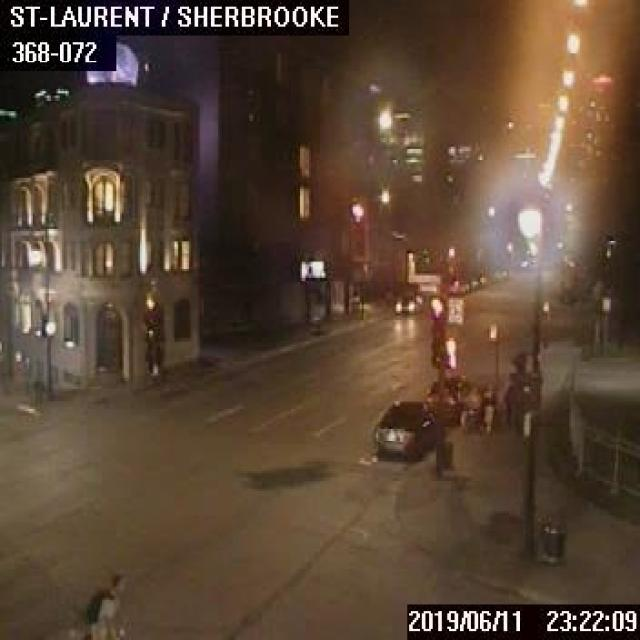cyclist: (73, 569, 131, 638)
pedestrian: (476, 380, 496, 433)
vehicle: (374, 397, 437, 460), (423, 374, 478, 422), (393, 291, 421, 313)
